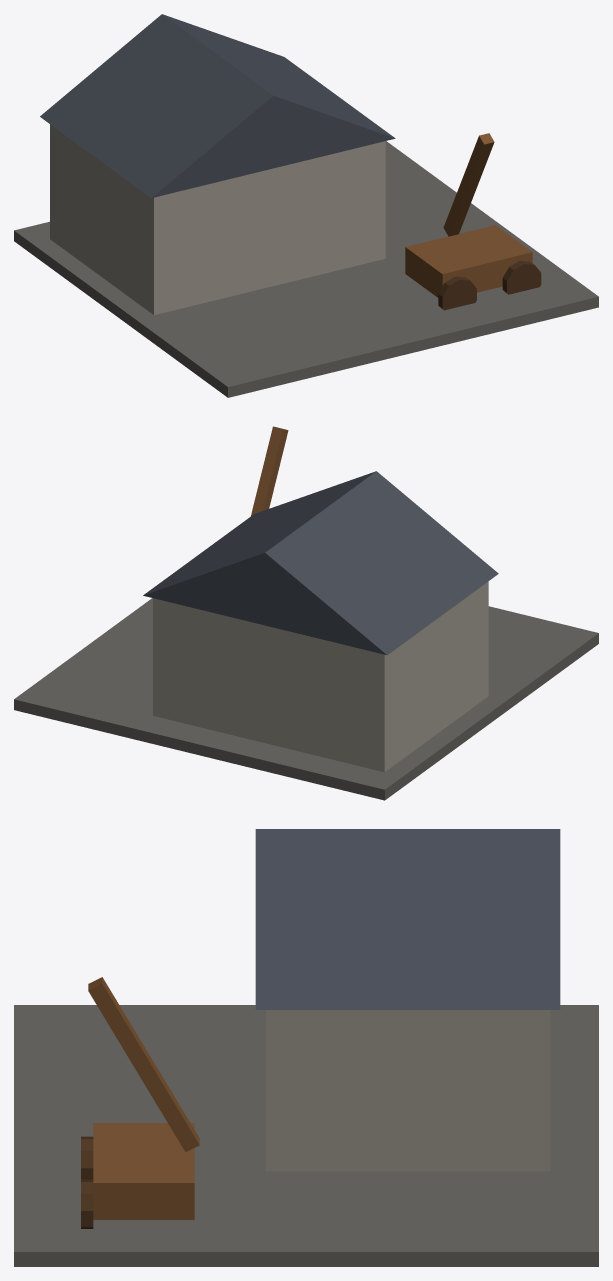
The model's file is siege_workshop.glb.
The picture shows the model from 3 angles, top to bottom: view 1: azimuth 30°, elevation 25°; view 2: azimuth 150°, elevation 25°; view 3: azimuth 270°, elevation 25°; orthographic projection. The views are drawn at different scales.
Parts seen in each view (by area): view 1: siege_workshop; view 2: siege_workshop; view 3: siege_workshop.
Part boxes in pixels (x1,y1,x2,y2): siege_workshop: (14,14,598,397); siege_workshop: (14,426,598,800); siege_workshop: (14,829,598,1266).
Size of the model in its own units: 2.88 by 1.52 by 2.88.
